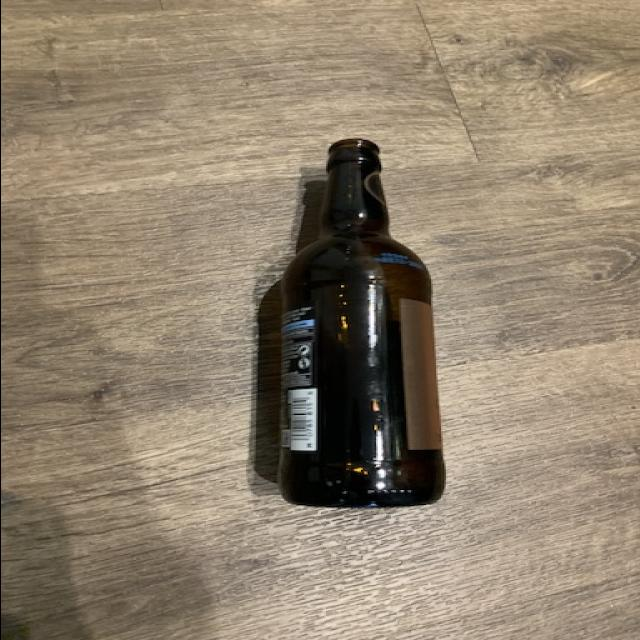litter: (275, 127, 455, 518)
